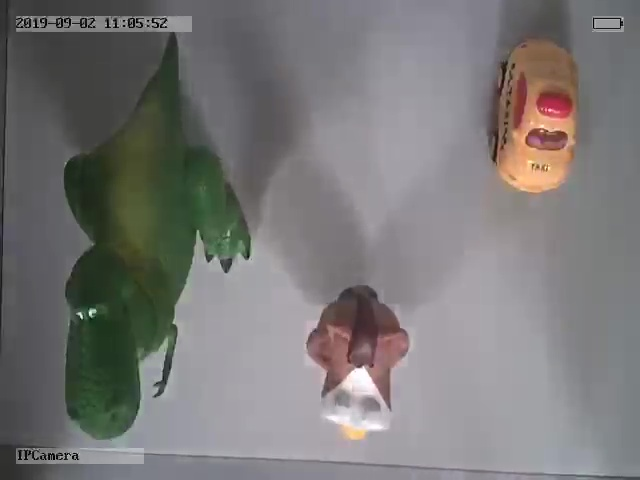car: (488, 36, 581, 194)
horse: (305, 285, 411, 440)
rex: (60, 44, 254, 439)
